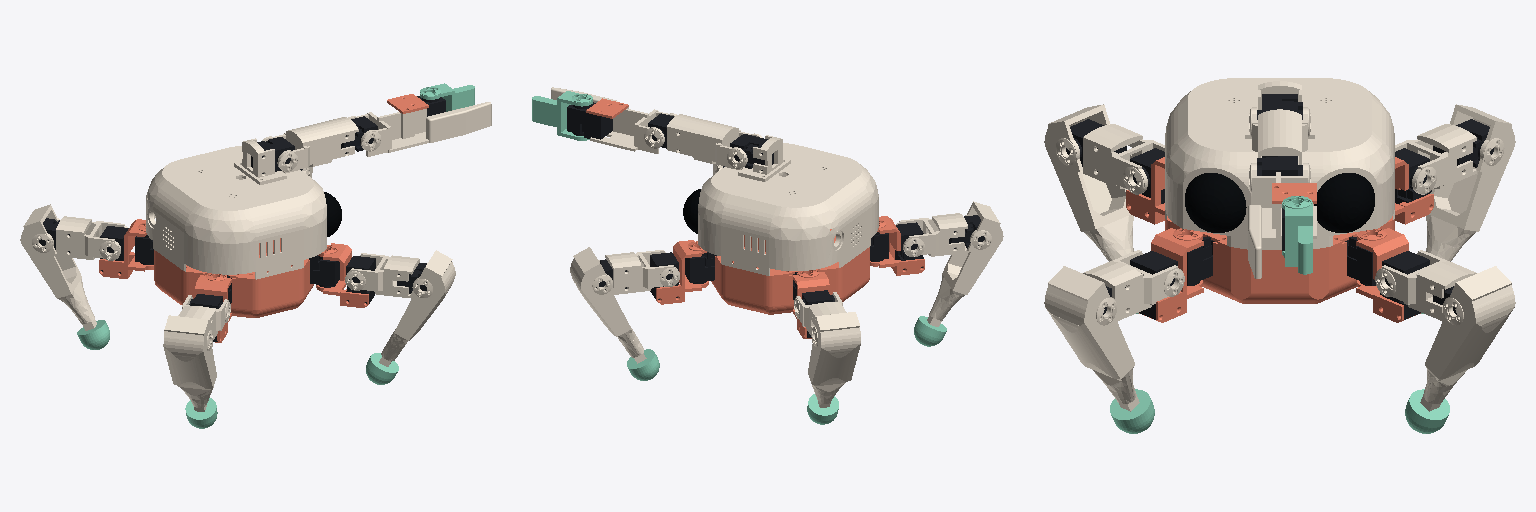
robot.urdf — scorpion_spider:
<?xml version="1.0"?>
<robot name="scorpion_spider">
  <!-- Generated by robot/build_model.py from the v0.5 CAD. Do not edit by hand. -->
  <material name="cream"><color rgba="0.96 0.92 0.86 1"/></material>
  <material name="coral"><color rgba="0.95 0.55 0.45 1"/></material>
  <material name="mint"><color rgba="0.58 0.85 0.75 1"/></material>
  <material name="eye"><color rgba="0.06 0.07 0.08 1"/></material>
  <material name="motor"><color rgba="0.16 0.17 0.19 1"/></material>
  <link name="base">
    <inertial><origin xyz="0.003126 -0.000025 0.016796" rpy="0 0 0"/><mass value="0.72396"/><inertia ixx="0.001615070" ixy="0.000065108" ixz="-0.000098396" iyy="0.001795702" iyz="-0.000008134" izz="0.002042053"/></inertial>
    <visual><origin xyz="0 0 -0.063" rpy="0 0 -1.570796"/><geometry><mesh filename="meshes/tub.stl"/></geometry><material name="coral"/></visual>
    <visual><origin xyz="0 0 -0.063" rpy="0 0 -1.570796"/><geometry><mesh filename="meshes/battery_door.stl"/></geometry><material name="coral"/></visual>
    <visual><origin xyz="0 0 -0.063" rpy="0 0 -1.570796"/><geometry><mesh filename="meshes/deck.stl"/></geometry><material name="coral"/></visual>
    <visual><origin xyz="0 0 -0.063" rpy="0 0 -1.570796"/><geometry><mesh filename="meshes/hub_tray.stl"/></geometry><material name="coral"/></visual>
    <visual><origin xyz="0 0 -0.063" rpy="0 0 -1.570796"/><geometry><mesh filename="meshes/shelf.stl"/></geometry><material name="coral"/></visual>
    <visual><origin xyz="0 0 -0.063" rpy="0 0 -1.570796"/><geometry><mesh filename="meshes/lid.stl"/></geometry><material name="cream"/></visual>
    <visual><origin xyz="0.04 0 0.0885" rpy="0 0 -1.570796"/><geometry><mesh filename="meshes/shoulder_mount.stl"/></geometry><material name="cream"/></visual>
    <visual><origin xyz="0.060888 -0.040426 0.0425" rpy="1.570796 0 1.22173"/><geometry><mesh filename="meshes/eye.stl"/></geometry><material name="eye"/></visual>
    <visual><origin xyz="0.060888 0.040426 0.0425" rpy="1.570796 0 1.919862"/><geometry><mesh filename="meshes/eye.stl"/></geometry><material name="eye"/></visual>
    <visual><origin xyz="0.04 0 0.0885" rpy="1.570796 1.570796 0"/><geometry><mesh filename="meshes/motor.stl"/></geometry><material name="motor"/></visual>
    <visual><origin xyz="0.055 -0.058 0" rpy="3.141593 0 0.785398"/><geometry><mesh filename="meshes/motor.stl"/></geometry><material name="motor"/></visual>
    <visual><origin xyz="0.055 0.058 0" rpy="3.141593 0 2.356194"/><geometry><mesh filename="meshes/motor.stl"/></geometry><material name="motor"/></visual>
    <visual><origin xyz="-0.055 -0.058 0" rpy="3.141593 0 -0.785398"/><geometry><mesh filename="meshes/motor.stl"/></geometry><material name="motor"/></visual>
    <visual><origin xyz="-0.055 0.058 0" rpy="3.141593 0 -2.356194"/><geometry><mesh filename="meshes/motor.stl"/></geometry><material name="motor"/></visual>
    <collision><origin xyz="0 0 -0.00775" rpy="0 0 0"/><geometry><box size="0.124 0.13 0.038"/></geometry></collision>
    <collision><origin xyz="0 0 0.04425" rpy="0 0 0"/><geometry><box size="0.138 0.144 0.061"/></geometry></collision>
  </link>
  <link name="fl_hip">
    <inertial><origin xyz="0.024508 0.000291 -0.007096" rpy="0 0 0"/><mass value="0.03359"/><inertia ixx="0.000007377" ixy="-0.000000005" ixz="0.000000982" iyy="0.000009094" iyz="0.000000027" izz="0.000005970"/></inertial>
    <visual><origin xyz="0 0 0" rpy="0 0 0"/><geometry><mesh filename="meshes/hip.stl"/></geometry><material name="coral"/></visual>
    <visual><origin xyz="0.03 0 0" rpy="1.570796 0 3.141593"/><geometry><mesh filename="meshes/motor.stl"/></geometry><material name="motor"/></visual>
  </link>
  <link name="fl_thigh">
    <inertial><origin xyz="0.040528 0.000244 -0.000451" rpy="0 0 0"/><mass value="0.03824"/><inertia ixx="0.000005492" ixy="-0.000000051" ixz="-0.000000258" iyy="0.000014947" iyz="-0.000000004" izz="0.000016189"/></inertial>
    <visual><origin xyz="0 0 0" rpy="0 0 0"/><geometry><mesh filename="meshes/thigh.stl"/></geometry><material name="cream"/></visual>
    <visual><origin xyz="0.06 0 0" rpy="-1.570796 -1.570796 0"/><geometry><mesh filename="meshes/motor.stl"/></geometry><material name="motor"/></visual>
    <collision><origin xyz="0.03 0 0" rpy="0 1.570796 0"/><geometry><cylinder radius="0.0125" length="0.069"/></geometry></collision>
  </link>
  <link name="fl_shin">
    <inertial><origin xyz="0.03394 -0.000005 0.005438" rpy="0 0 0"/><mass value="0.02893"/><inertia ixx="0.000004727" ixy="0.000000004" ixz="0.000002309" iyy="0.000030129" iyz="-0.000000000" izz="0.000032157"/></inertial>
    <visual><origin xyz="0 0 0" rpy="0 0 0"/><geometry><mesh filename="meshes/shin.stl"/></geometry><material name="cream"/></visual>
    <collision><origin xyz="0.04 0 0" rpy="0 1.570796 0"/><geometry><cylinder radius="0.011" length="0.082"/></geometry></collision>
  </link>
  <link name="fl_foot">
    <inertial><origin xyz="0.001598 0.000001 0" rpy="0 0 0"/><mass value="0.00570"/><inertia ixx="0.000000491" ixy="-0.000000000" ixz="0.000000000" iyy="0.000000394" iyz="0.000000000" izz="0.000000394"/></inertial>
    <visual><origin xyz="0 0 0" rpy="0 0 0"/><geometry><mesh filename="meshes/foot.stl"/></geometry><material name="mint"/></visual>
    <collision><origin xyz="0 0 0" rpy="0 0 0"/><geometry><sphere radius="0.0135"/></geometry></collision>
  </link>
  <link name="fr_hip">
    <inertial><origin xyz="0.024508 0.000291 -0.007096" rpy="0 0 0"/><mass value="0.03359"/><inertia ixx="0.000007377" ixy="-0.000000005" ixz="0.000000982" iyy="0.000009094" iyz="0.000000027" izz="0.000005970"/></inertial>
    <visual><origin xyz="0 0 0" rpy="0 0 0"/><geometry><mesh filename="meshes/hip.stl"/></geometry><material name="coral"/></visual>
    <visual><origin xyz="0.03 0 0" rpy="1.570796 0 3.141593"/><geometry><mesh filename="meshes/motor.stl"/></geometry><material name="motor"/></visual>
  </link>
  <link name="fr_thigh">
    <inertial><origin xyz="0.040528 0.000244 -0.000451" rpy="0 0 0"/><mass value="0.03824"/><inertia ixx="0.000005492" ixy="-0.000000051" ixz="-0.000000258" iyy="0.000014947" iyz="-0.000000004" izz="0.000016189"/></inertial>
    <visual><origin xyz="0 0 0" rpy="0 0 0"/><geometry><mesh filename="meshes/thigh.stl"/></geometry><material name="cream"/></visual>
    <visual><origin xyz="0.06 0 0" rpy="-1.570796 -1.570796 0"/><geometry><mesh filename="meshes/motor.stl"/></geometry><material name="motor"/></visual>
    <collision><origin xyz="0.03 0 0" rpy="0 1.570796 0"/><geometry><cylinder radius="0.0125" length="0.069"/></geometry></collision>
  </link>
  <link name="fr_shin">
    <inertial><origin xyz="0.03394 -0.000005 0.005438" rpy="0 0 0"/><mass value="0.02893"/><inertia ixx="0.000004727" ixy="0.000000004" ixz="0.000002309" iyy="0.000030129" iyz="-0.000000000" izz="0.000032157"/></inertial>
    <visual><origin xyz="0 0 0" rpy="0 0 0"/><geometry><mesh filename="meshes/shin.stl"/></geometry><material name="cream"/></visual>
    <collision><origin xyz="0.04 0 0" rpy="0 1.570796 0"/><geometry><cylinder radius="0.011" length="0.082"/></geometry></collision>
  </link>
  <link name="fr_foot">
    <inertial><origin xyz="0.001598 0.000001 0" rpy="0 0 0"/><mass value="0.00570"/><inertia ixx="0.000000491" ixy="-0.000000000" ixz="-0.000000000" iyy="0.000000394" iyz="0.000000000" izz="0.000000394"/></inertial>
    <visual><origin xyz="0 0 0" rpy="0 0 0"/><geometry><mesh filename="meshes/foot.stl"/></geometry><material name="mint"/></visual>
    <collision><origin xyz="0 0 0" rpy="0 0 0"/><geometry><sphere radius="0.0135"/></geometry></collision>
  </link>
  <link name="rl_hip">
    <inertial><origin xyz="0.024508 0.000291 -0.007096" rpy="0 0 0"/><mass value="0.03359"/><inertia ixx="0.000007377" ixy="-0.000000005" ixz="0.000000982" iyy="0.000009094" iyz="0.000000027" izz="0.000005970"/></inertial>
    <visual><origin xyz="0 0 0" rpy="0 0 0"/><geometry><mesh filename="meshes/hip.stl"/></geometry><material name="coral"/></visual>
    <visual><origin xyz="0.03 0 0" rpy="1.570796 0 3.141593"/><geometry><mesh filename="meshes/motor.stl"/></geometry><material name="motor"/></visual>
  </link>
  <link name="rl_thigh">
    <inertial><origin xyz="0.040528 0.000244 -0.000451" rpy="0 0 0"/><mass value="0.03824"/><inertia ixx="0.000005492" ixy="-0.000000051" ixz="-0.000000258" iyy="0.000014947" iyz="-0.000000004" izz="0.000016189"/></inertial>
    <visual><origin xyz="0 0 0" rpy="0 0 0"/><geometry><mesh filename="meshes/thigh.stl"/></geometry><material name="cream"/></visual>
    <visual><origin xyz="0.06 0 0" rpy="-1.570796 -1.570796 0"/><geometry><mesh filename="meshes/motor.stl"/></geometry><material name="motor"/></visual>
    <collision><origin xyz="0.03 0 0" rpy="0 1.570796 0"/><geometry><cylinder radius="0.0125" length="0.069"/></geometry></collision>
  </link>
  <link name="rl_shin">
    <inertial><origin xyz="0.03394 -0.000005 0.005438" rpy="0 0 0"/><mass value="0.02893"/><inertia ixx="0.000004727" ixy="0.000000004" ixz="0.000002309" iyy="0.000030129" iyz="-0.000000000" izz="0.000032157"/></inertial>
    <visual><origin xyz="0 0 0" rpy="0 0 0"/><geometry><mesh filename="meshes/shin.stl"/></geometry><material name="cream"/></visual>
    <collision><origin xyz="0.04 0 0" rpy="0 1.570796 0"/><geometry><cylinder radius="0.011" length="0.082"/></geometry></collision>
  </link>
  <link name="rl_foot">
    <inertial><origin xyz="0.001598 0.000001 0" rpy="0 0 0"/><mass value="0.00570"/><inertia ixx="0.000000491" ixy="-0.000000000" ixz="0.000000000" iyy="0.000000394" iyz="0.000000000" izz="0.000000394"/></inertial>
    <visual><origin xyz="0 0 0" rpy="0 0 0"/><geometry><mesh filename="meshes/foot.stl"/></geometry><material name="mint"/></visual>
    <collision><origin xyz="0 0 0" rpy="0 0 0"/><geometry><sphere radius="0.0135"/></geometry></collision>
  </link>
  <link name="rr_hip">
    <inertial><origin xyz="0.024508 0.000291 -0.007096" rpy="0 0 0"/><mass value="0.03359"/><inertia ixx="0.000007377" ixy="-0.000000005" ixz="0.000000982" iyy="0.000009094" iyz="0.000000027" izz="0.000005970"/></inertial>
    <visual><origin xyz="0 0 0" rpy="0 0 0"/><geometry><mesh filename="meshes/hip.stl"/></geometry><material name="coral"/></visual>
    <visual><origin xyz="0.03 0 0" rpy="1.570796 0 3.141593"/><geometry><mesh filename="meshes/motor.stl"/></geometry><material name="motor"/></visual>
  </link>
  <link name="rr_thigh">
    <inertial><origin xyz="0.040528 0.000244 -0.000451" rpy="0 0 0"/><mass value="0.03824"/><inertia ixx="0.000005492" ixy="-0.000000051" ixz="-0.000000258" iyy="0.000014947" iyz="-0.000000004" izz="0.000016189"/></inertial>
    <visual><origin xyz="0 0 0" rpy="0 0 0"/><geometry><mesh filename="meshes/thigh.stl"/></geometry><material name="cream"/></visual>
    <visual><origin xyz="0.06 0 0" rpy="-1.570796 -1.570796 0"/><geometry><mesh filename="meshes/motor.stl"/></geometry><material name="motor"/></visual>
    <collision><origin xyz="0.03 0 0" rpy="0 1.570796 0"/><geometry><cylinder radius="0.0125" length="0.069"/></geometry></collision>
  </link>
  <link name="rr_shin">
    <inertial><origin xyz="0.03394 -0.000005 0.005438" rpy="0 0 0"/><mass value="0.02893"/><inertia ixx="0.000004727" ixy="0.000000004" ixz="0.000002309" iyy="0.000030129" iyz="-0.000000000" izz="0.000032157"/></inertial>
    <visual><origin xyz="0 0 0" rpy="0 0 0"/><geometry><mesh filename="meshes/shin.stl"/></geometry><material name="cream"/></visual>
    <collision><origin xyz="0.04 0 0" rpy="0 1.570796 0"/><geometry><cylinder radius="0.011" length="0.082"/></geometry></collision>
  </link>
  <link name="rr_foot">
    <inertial><origin xyz="0.001598 0.000001 0" rpy="0 0 0"/><mass value="0.00570"/><inertia ixx="0.000000491" ixy="-0.000000000" ixz="-0.000000000" iyy="0.000000394" iyz="0.000000000" izz="0.000000394"/></inertial>
    <visual><origin xyz="0 0 0" rpy="0 0 0"/><geometry><mesh filename="meshes/foot.stl"/></geometry><material name="mint"/></visual>
    <collision><origin xyz="0 0 0" rpy="0 0 0"/><geometry><sphere radius="0.0135"/></geometry></collision>
  </link>
  <link name="upper_arm">
    <inertial><origin xyz="0.054013 0.000202 0.001943" rpy="0 0 0"/><mass value="0.04388"/><inertia ixx="0.000006619" ixy="-0.000000130" ixz="0.000000555" iyy="0.000032094" iyz="0.000000017" izz="0.000033144"/></inertial>
    <visual><origin xyz="0 0 0" rpy="0 0 0"/><geometry><mesh filename="meshes/upper_arm.stl"/></geometry><material name="cream"/></visual>
    <visual><origin xyz="0.0825 0 0" rpy="-1.570796 -1.570796 0"/><geometry><mesh filename="meshes/motor.stl"/></geometry><material name="motor"/></visual>
    <collision><origin xyz="0.04125 0 0" rpy="0 1.570796 0"/><geometry><cylinder radius="0.012" length="0.0865"/></geometry></collision>
  </link>
  <link name="forearm">
    <inertial><origin xyz="0.059392 0.001447 -0.001538" rpy="0 0 0"/><mass value="0.04940"/><inertia ixx="0.000011261" ixy="0.000002671" ixz="-0.000000708" iyy="0.000037958" iyz="-0.000000850" izz="0.000042880"/></inertial>
    <visual><origin xyz="0 0 0" rpy="0 0 0"/><geometry><mesh filename="meshes/forearm.stl"/></geometry><material name="cream"/></visual>
    <visual><origin xyz="0 0 0" rpy="0 0 0"/><geometry><mesh filename="meshes/palm_cap.stl"/></geometry><material name="coral"/></visual>
    <visual><origin xyz="0.075 0.011 0" rpy="0 0 -1.570796"/><geometry><mesh filename="meshes/motor.stl"/></geometry><material name="motor"/></visual>
    <collision><origin xyz="0.025 0 0" rpy="0 1.570796 0"/><geometry><cylinder radius="0.012" length="0.054"/></geometry></collision>
    <collision><origin xyz="0.051 0.002 0" rpy="0 0 0"/><geometry><box size="0.026 0.042 0.029"/></geometry></collision>
    <collision><origin xyz="0.0885 -0.01575 -0.00325" rpy="0 0 0"/><geometry><box size="0.065 0.0085 0.0225"/></geometry></collision>
  </link>
  <link name="finger">
    <inertial><origin xyz="0.021528 0.002817 0" rpy="0 0 0"/><mass value="0.00992"/><inertia ixx="0.000001358" ixy="-0.000000257" ixz="0.000000000" iyy="0.000003008" iyz="0.000000000" izz="0.000002075"/></inertial>
    <visual><origin xyz="0 0 0" rpy="0 0 0"/><geometry><mesh filename="meshes/finger.stl"/></geometry><material name="mint"/></visual>
    <collision><origin xyz="0.032 0.005 0" rpy="0 0 0"/><geometry><box size="0.03 0.009 0.021"/></geometry></collision>
  </link>
  <joint name="fl_hip_turn" type="revolute"><parent link="base"/><child link="fl_hip"/><origin xyz="0.055 0.058 0" rpy="0 0 0.785398"/><axis xyz="0 0 1"/><limit lower="-1.047198" upper="1.047198" effort="1.18" velocity="9.6"/><dynamics damping="0.05" friction="0.02"/></joint>
  <joint name="fl_hip_lift" type="revolute"><parent link="fl_hip"/><child link="fl_thigh"/><origin xyz="0.03 0 0" rpy="0 0 0"/><axis xyz="0 -1 0"/><limit lower="-0.261799" upper="1.658063" effort="1.18" velocity="9.6"/><dynamics damping="0.05" friction="0.02"/></joint>
  <joint name="fl_knee" type="revolute"><parent link="fl_thigh"/><child link="fl_shin"/><origin xyz="0.06 0 0" rpy="0 0 0"/><axis xyz="0 1 0"/><limit lower="1.308997" upper="2.70526" effort="1.18" velocity="9.6"/><dynamics damping="0.05" friction="0.02"/></joint>
  <joint name="fl_foot_fixed" type="fixed"><parent link="fl_shin"/><child link="fl_foot"/><origin xyz="0.099 0 0" rpy="0 0 0"/></joint>
  <joint name="fr_hip_turn" type="revolute"><parent link="base"/><child link="fr_hip"/><origin xyz="0.055 -0.058 0" rpy="0 0 -0.785398"/><axis xyz="0 0 1"/><limit lower="-1.047198" upper="1.047198" effort="1.18" velocity="9.6"/><dynamics damping="0.05" friction="0.02"/></joint>
  <joint name="fr_hip_lift" type="revolute"><parent link="fr_hip"/><child link="fr_thigh"/><origin xyz="0.03 0 0" rpy="0 0 0"/><axis xyz="0 -1 0"/><limit lower="-0.261799" upper="1.658063" effort="1.18" velocity="9.6"/><dynamics damping="0.05" friction="0.02"/></joint>
  <joint name="fr_knee" type="revolute"><parent link="fr_thigh"/><child link="fr_shin"/><origin xyz="0.06 0 0" rpy="0 0 0"/><axis xyz="0 1 0"/><limit lower="1.308997" upper="2.70526" effort="1.18" velocity="9.6"/><dynamics damping="0.05" friction="0.02"/></joint>
  <joint name="fr_foot_fixed" type="fixed"><parent link="fr_shin"/><child link="fr_foot"/><origin xyz="0.099 0 0" rpy="0 0 0"/></joint>
  <joint name="rl_hip_turn" type="revolute"><parent link="base"/><child link="rl_hip"/><origin xyz="-0.055 0.058 0" rpy="0 0 2.356194"/><axis xyz="0 0 1"/><limit lower="-1.047198" upper="1.047198" effort="1.18" velocity="9.6"/><dynamics damping="0.05" friction="0.02"/></joint>
  <joint name="rl_hip_lift" type="revolute"><parent link="rl_hip"/><child link="rl_thigh"/><origin xyz="0.03 0 0" rpy="0 0 0"/><axis xyz="0 -1 0"/><limit lower="-0.261799" upper="1.658063" effort="1.18" velocity="9.6"/><dynamics damping="0.05" friction="0.02"/></joint>
  <joint name="rl_knee" type="revolute"><parent link="rl_thigh"/><child link="rl_shin"/><origin xyz="0.06 0 0" rpy="0 0 0"/><axis xyz="0 1 0"/><limit lower="1.308997" upper="2.70526" effort="1.18" velocity="9.6"/><dynamics damping="0.05" friction="0.02"/></joint>
  <joint name="rl_foot_fixed" type="fixed"><parent link="rl_shin"/><child link="rl_foot"/><origin xyz="0.099 0 0" rpy="0 0 0"/></joint>
  <joint name="rr_hip_turn" type="revolute"><parent link="base"/><child link="rr_hip"/><origin xyz="-0.055 -0.058 0" rpy="0 0 -2.356194"/><axis xyz="0 0 1"/><limit lower="-1.047198" upper="1.047198" effort="1.18" velocity="9.6"/><dynamics damping="0.05" friction="0.02"/></joint>
  <joint name="rr_hip_lift" type="revolute"><parent link="rr_hip"/><child link="rr_thigh"/><origin xyz="0.03 0 0" rpy="0 0 0"/><axis xyz="0 -1 0"/><limit lower="-0.261799" upper="1.658063" effort="1.18" velocity="9.6"/><dynamics damping="0.05" friction="0.02"/></joint>
  <joint name="rr_knee" type="revolute"><parent link="rr_thigh"/><child link="rr_shin"/><origin xyz="0.06 0 0" rpy="0 0 0"/><axis xyz="0 1 0"/><limit lower="1.308997" upper="2.70526" effort="1.18" velocity="9.6"/><dynamics damping="0.05" friction="0.02"/></joint>
  <joint name="rr_foot_fixed" type="fixed"><parent link="rr_shin"/><child link="rr_foot"/><origin xyz="0.099 0 0" rpy="0 0 0"/></joint>
  <joint name="arm_shoulder" type="revolute"><parent link="base"/><child link="upper_arm"/><origin xyz="0.04 0 0.0885" rpy="0 0 0"/><axis xyz="0 -1 0"/><limit lower="-0.087266" upper="1.745329" effort="1.18" velocity="9.6"/><dynamics damping="0.05" friction="0.02"/></joint>
  <joint name="arm_elbow" type="revolute"><parent link="upper_arm"/><child link="forearm"/><origin xyz="0.0825 0 0" rpy="0 0 0"/><axis xyz="0 -1 0"/><limit lower="-1.919862" upper="0" effort="1.18" velocity="9.6"/><dynamics damping="0.05" friction="0.02"/></joint>
  <joint name="claw" type="revolute"><parent link="forearm"/><child link="finger"/><origin xyz="0.075 0.011 0" rpy="0 0 0"/><axis xyz="0 0 1"/><limit lower="-0.436332" upper="0.925025" effort="1.18" velocity="9.6"/><dynamics damping="0.05" friction="0.02"/></joint>
</robot>

--- What the picture shows (computed from the rendered views, not written in the file) ---
The picture shows the robot from 3 angles, left to right: view 1: azimuth 30°, elevation 25°; view 2: azimuth 150°, elevation 25°; view 3: azimuth 270°, elevation 25°; orthographic projection.
Model scorpion_spider with 20 links and 19 joints (15 revolute, 4 fixed), rooted at base, posed all joints at 0 but 4 set to mid-range because 0 is outside their limits (fl_knee = 2.01, fr_knee = 2.01, rl_knee = 2.01, rr_knee = 2.01).
Links seen in each view (by area): view 1: base, forearm, rr_shin, rl_shin, upper_arm, fr_shin, rl_thigh, fr_thigh, fr_hip, rl_hip, rr_hip, finger (+4 smaller); view 2: base, forearm, rl_shin, rr_shin, upper_arm, fl_shin, rr_thigh, fl_thigh, fl_hip, rr_hip, finger, rl_hip (+4 smaller); view 3: base, fl_shin, fr_shin, rl_shin, rr_shin, rl_thigh, rr_thigh, forearm, upper_arm, fl_thigh, fr_thigh, fr_hip (+6 smaller).
Link boxes in pixels (<box>): base: <box>135,137,341,317</box>; forearm: <box>348,94,491,156</box>; rr_shin: <box>163,315,216,411</box>; rl_shin: <box>20,204,96,330</box>; upper_arm: <box>262,116,377,172</box>; fr_shin: <box>379,250,455,366</box>; rl_thigh: <box>36,216,127,260</box>; fr_thigh: <box>345,253,426,298</box>; fr_hip: <box>316,243,375,307</box>; rl_hip: <box>99,219,153,278</box>; rr_hip: <box>189,273,231,342</box>; finger: <box>420,83,474,111</box>; base: <box>683,134,888,314</box>; forearm: <box>551,87,676,153</box>; rl_shin: <box>808,312,860,407</box>; rr_shin: <box>927,201,1003,326</box>; upper_arm: <box>648,113,762,169</box>; fl_shin: <box>570,247,646,363</box>; rr_thigh: <box>896,213,984,256</box>; fl_thigh: <box>596,250,679,294</box>; fl_hip: <box>650,240,708,304</box>; rr_hip: <box>870,216,924,275</box>; finger: <box>532,91,592,140</box>; rl_hip: <box>793,270,834,338</box>; base: <box>1165,78,1394,303</box>; fl_shin: <box>1420,266,1515,411</box>; fr_shin: <box>1044,266,1139,411</box>; rl_shin: <box>1426,104,1515,261</box>; rr_shin: <box>1044,104,1133,261</box>; rl_thigh: <box>1395,119,1493,194</box>; rr_thigh: <box>1066,119,1164,194</box>; forearm: <box>1248,163,1316,278</box>; upper_arm: <box>1249,107,1310,175</box>; fl_thigh: <box>1375,250,1476,320</box>; fr_thigh: <box>1083,250,1184,320</box>; fr_hip: <box>1130,228,1203,322</box>.
Size in the robot's own frame: 0.3889 by 0.2959 by 0.2111 metres.
Meshes: 17 distinct files referenced, 44 mesh visuals loaded (17 binary STL).
